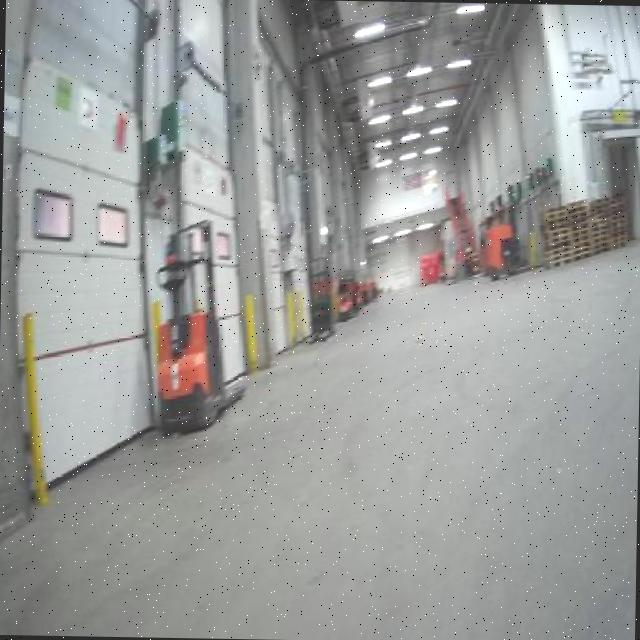pallet: (548, 226, 577, 252), (542, 200, 574, 223), (550, 249, 574, 273)
